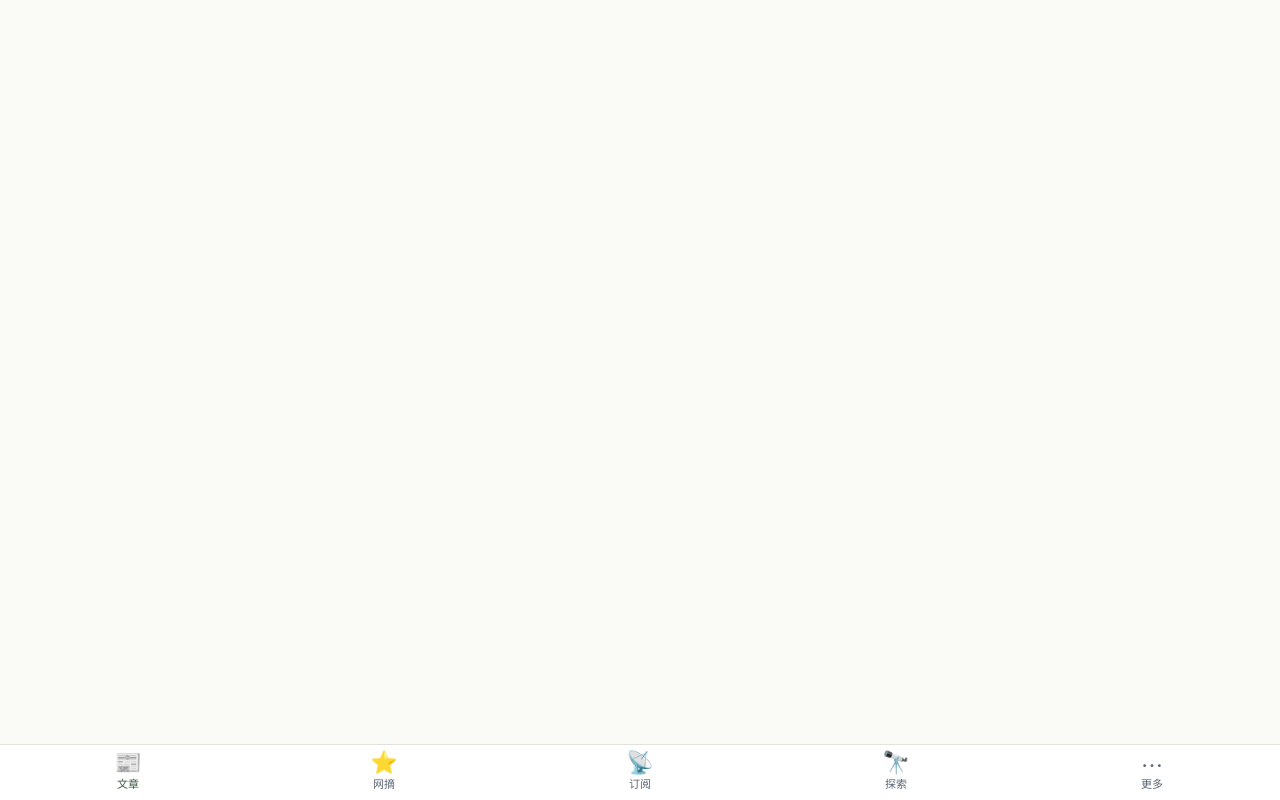
Test: MobileTabBar › shows primary and overflow destinations in the requested order
Click the button "⋯ 更多".
click(1152, 772)  # box [1024, 745, 1279, 799]
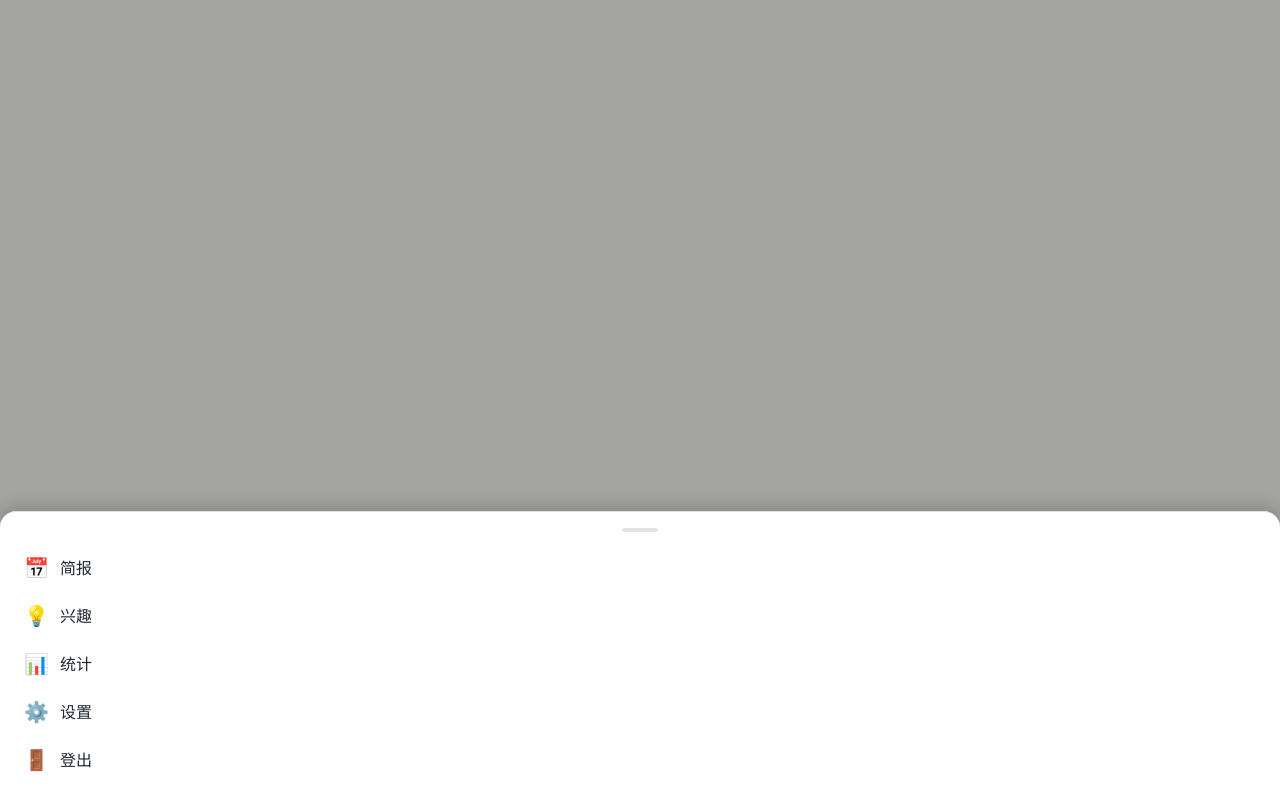
Result: the buttons read "📅简报", "💡兴趣", "📊统计", "⚙️设置", "🚪登出", in this order at [8, 544, 1272, 592]; [8, 592, 1272, 640]; [8, 640, 1272, 688]; [8, 688, 1272, 736]; [8, 736, 1272, 784]
